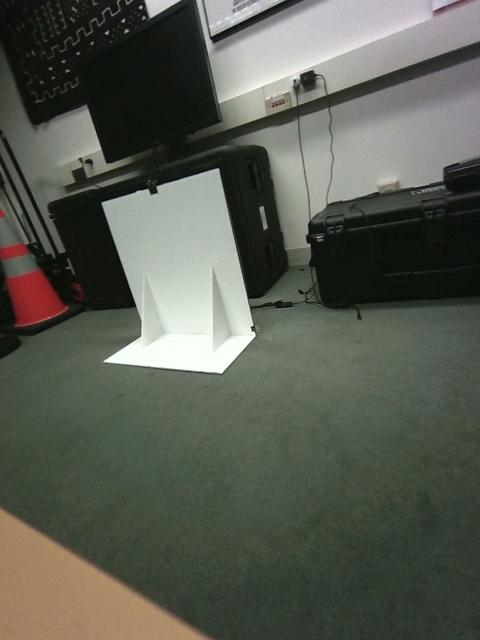block: (351, 247, 384, 273)
